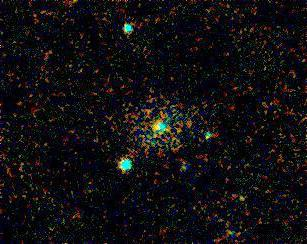star: (227, 181, 257, 211)
